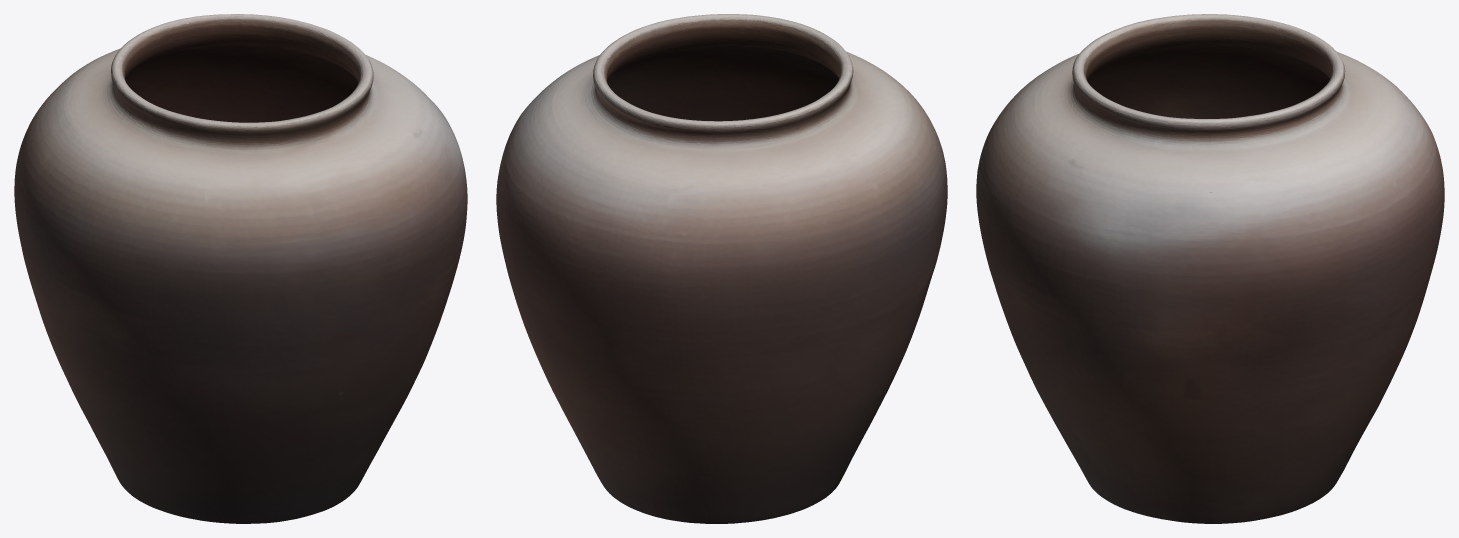
File: CaiLu.glb
The picture shows the model from 3 angles, left to right: view 1: azimuth 30°, elevation 25°; view 2: azimuth 150°, elevation 25°; view 3: azimuth 270°, elevation 25°; orthographic projection.
Parts seen in each view (by area): view 1: world; view 2: world; view 3: world.
Part boxes in pixels (x1,y1,x2,y2): world: (14, 14, 467, 523); world: (496, 14, 947, 523); world: (976, 14, 1444, 523).
Size of the model in its own units: 0.961 by 0.9551 by 0.9987.
1 material, 1 textured.
